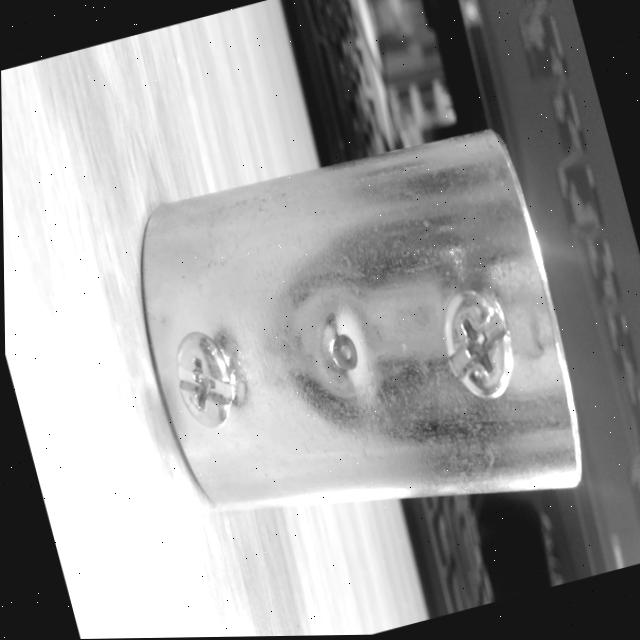Co_Nho: (119, 125, 590, 566)
